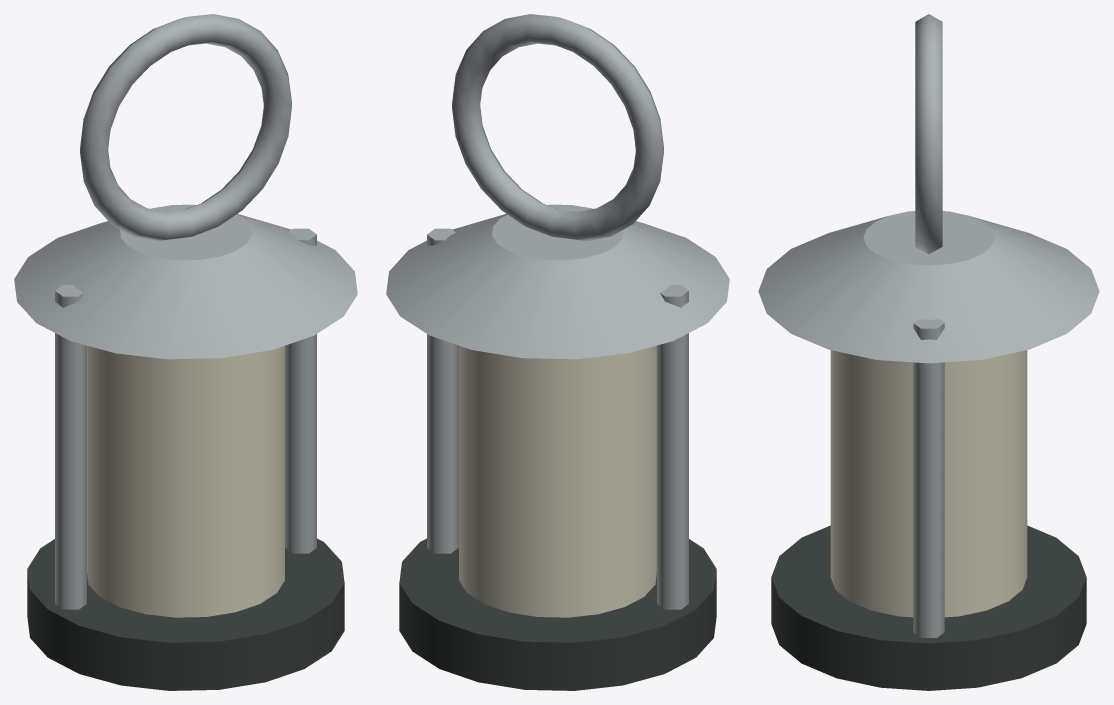
Rendered from wilderness-survival-camp-camp-lantern-37c96021__21972.glb.
3 renders of one model, left to right at view 1: azimuth 30°, elevation 25°; view 2: azimuth 150°, elevation 25°; view 3: azimuth 270°, elevation 25°, orthographic.
Parts seen in each view (by area): view 1: camp-lantern; view 2: camp-lantern; view 3: camp-lantern.
Boxes of the visible parts, x1,y1,x2,y2 form: camp-lantern: (14, 14, 357, 690); camp-lantern: (386, 14, 729, 690); camp-lantern: (758, 14, 1099, 690).
Bounding box in the file's own units: 0.26 × 0.504 × 0.26.
